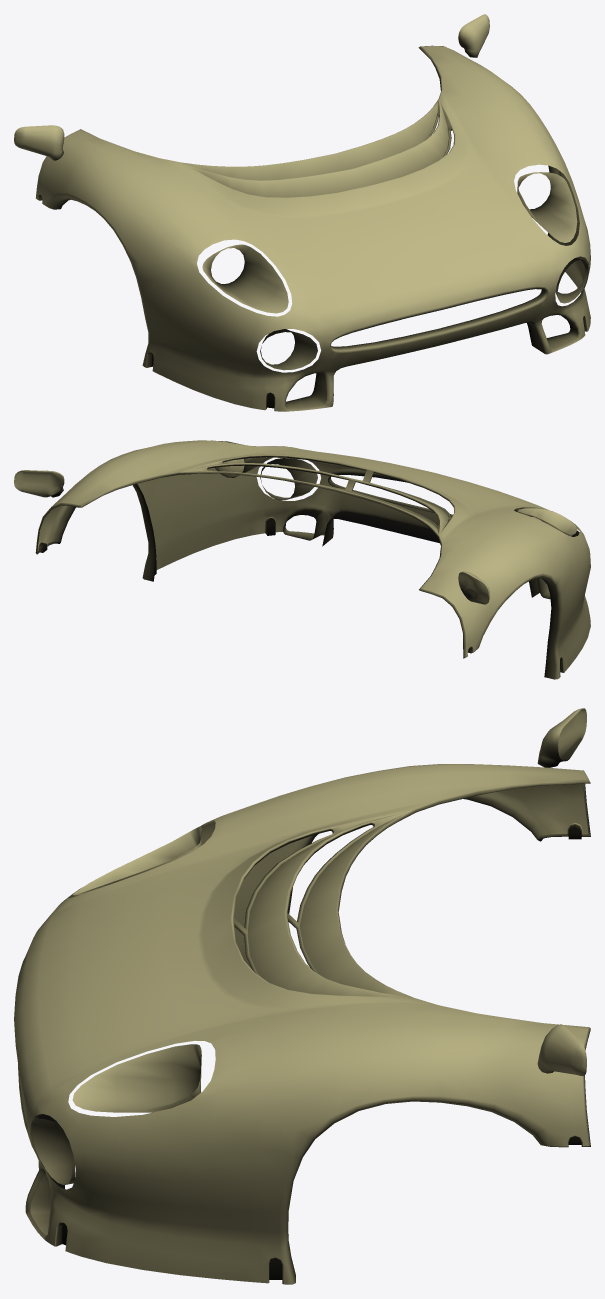
File: MC_XJ220s_Clam_Duco.fbx
3 views of the same model, one above another, from view 1: azimuth 30°, elevation 25°; view 2: azimuth 150°, elevation 25°; view 3: azimuth 270°, elevation 25° (orthographic). The views are drawn at different scales.
Visible parts, largest first — view 1: MC_XJ220s_Clam_Duco; view 2: MC_XJ220s_Clam_Duco; view 3: MC_XJ220s_Clam_Duco.
Boxes of the visible parts, x1=… form: MC_XJ220s_Clam_Duco: x1=14, y1=14, x2=590, y2=411; MC_XJ220s_Clam_Duco: x1=14, y1=440, x2=590, y2=679; MC_XJ220s_Clam_Duco: x1=14, y1=708, x2=590, y2=1284.
Bounding box in the file's own units: 222 × 77.25 × 157.
